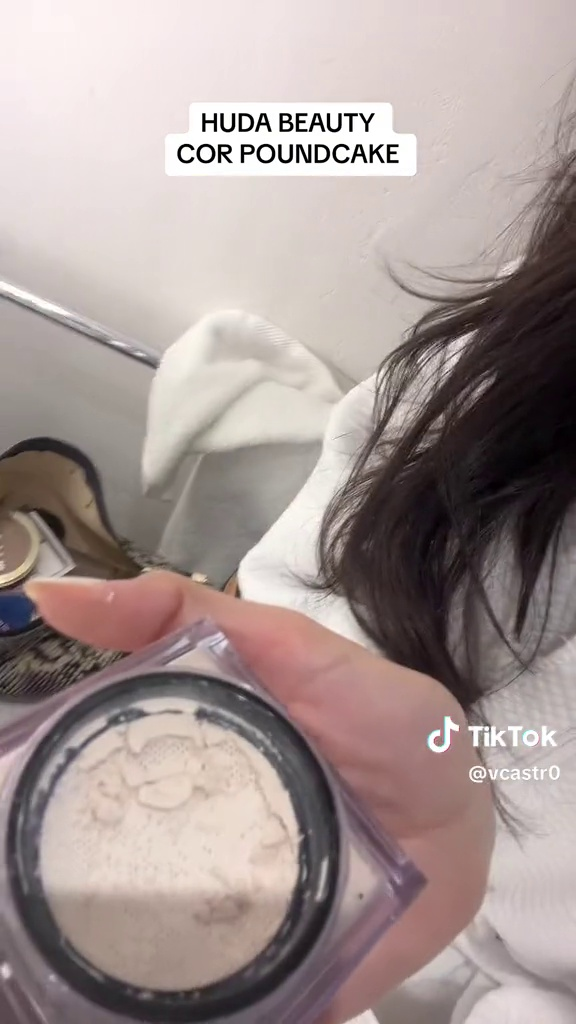train' :'yolo_data/train/images',: (1, 616, 431, 1023)
